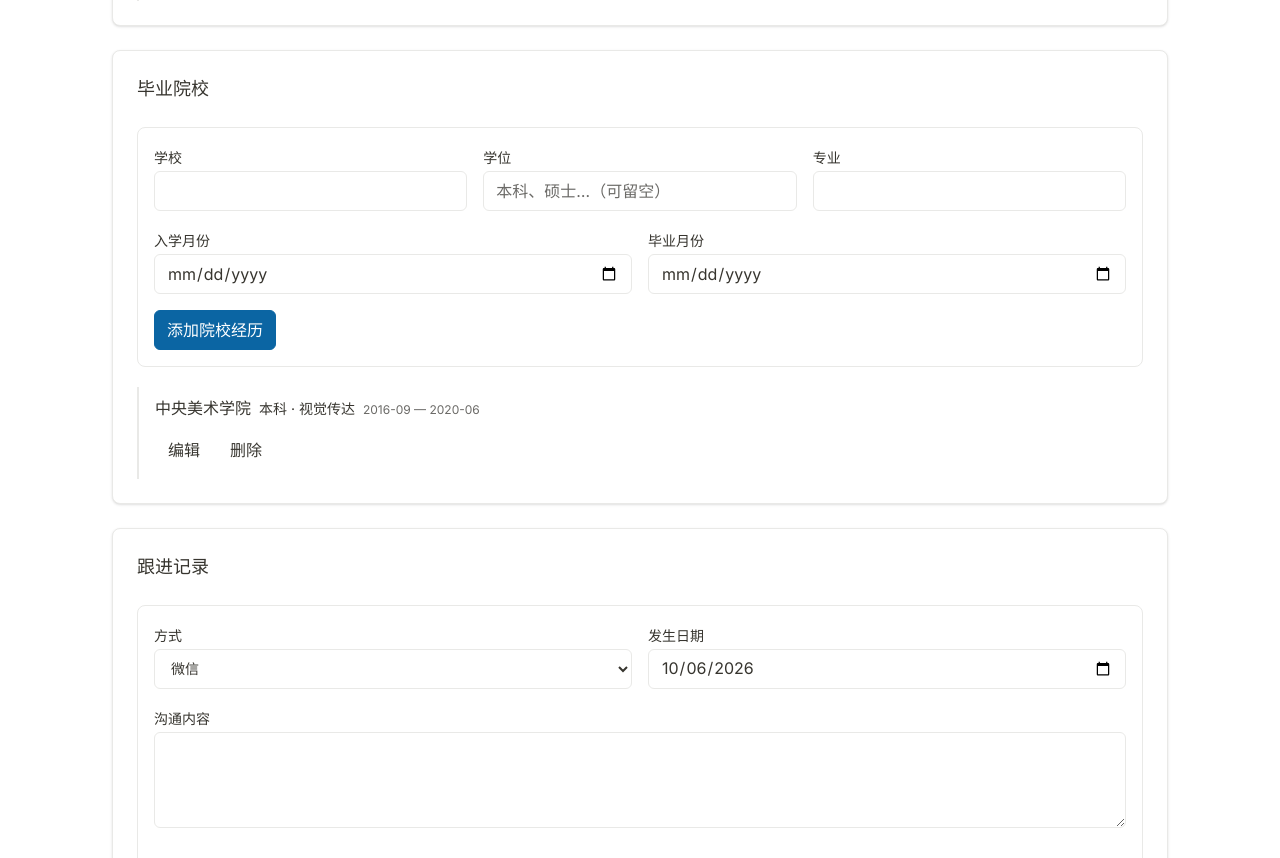
Test case: TalentDetailPage › 删除院校经历前需要确认
The image size is (1280, 858).
(page scrolled)
What coordinates should you click on to do the following:
click the button "删除"
I would click on:
 (246, 451)
Its box is [217,431,275,471].
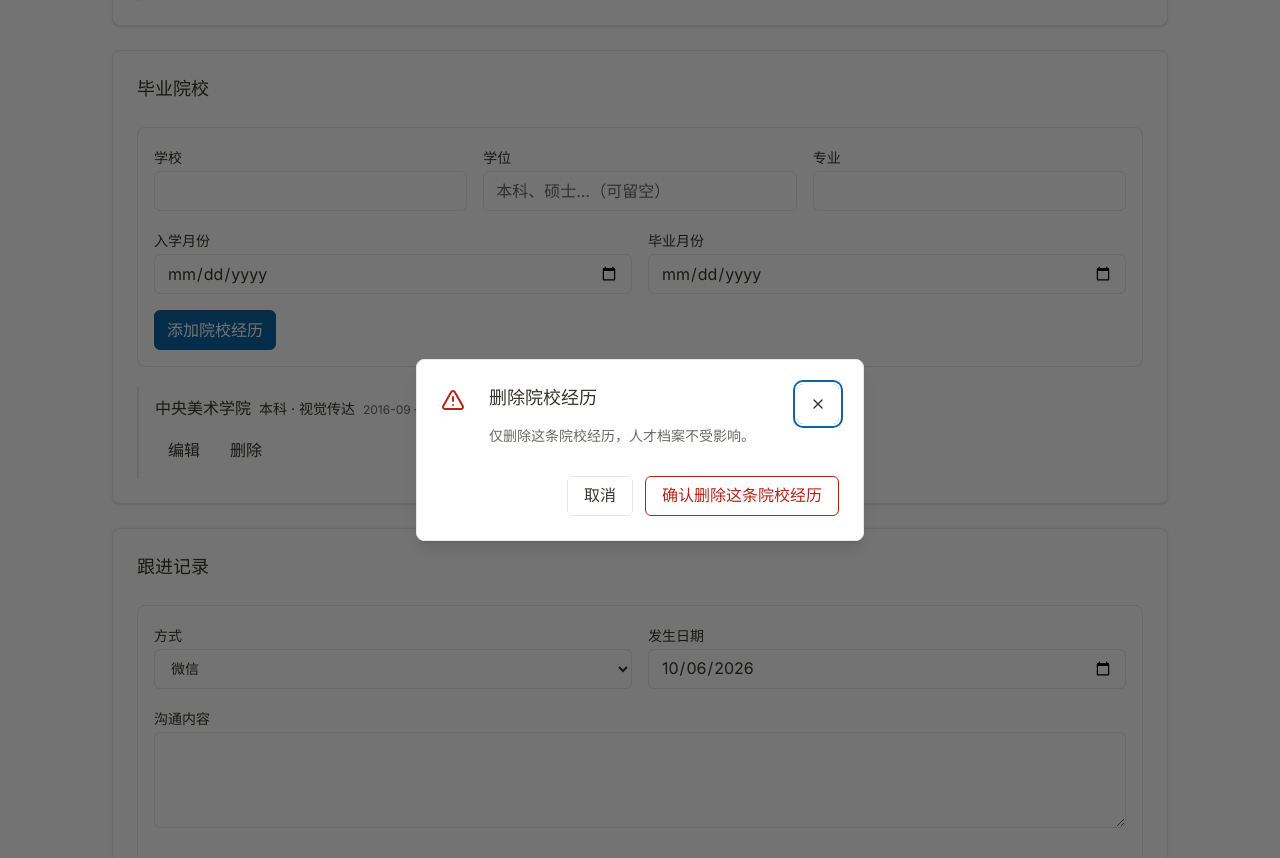
Now the dialog shows "人才档案不受影响", box [489,427,755,444]
What coordinates should you click on to do the following:
click the button "确认删除这条院校经历"
I would click on:
 (742, 496)
Its box is [645,476,839,516].
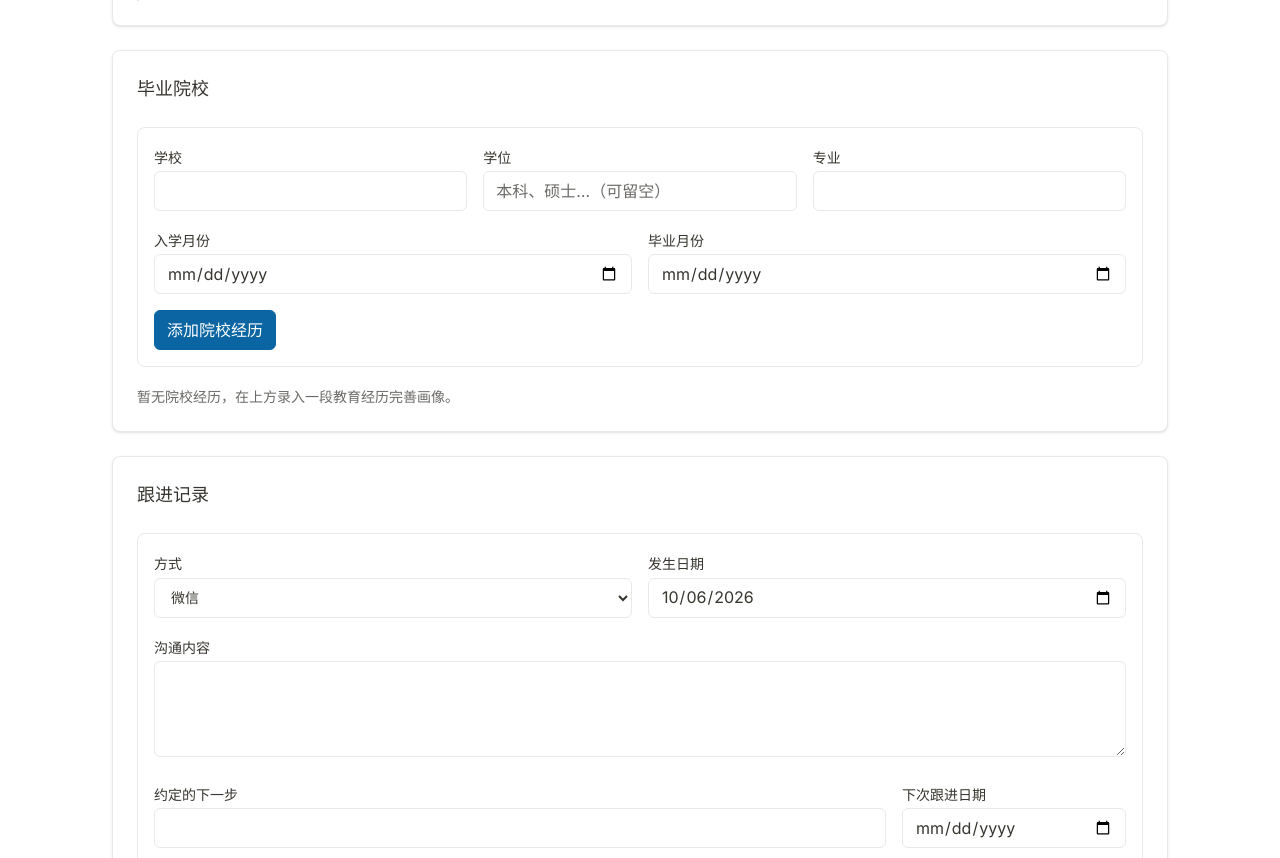
Now the text "暂无院校经历，在上方录入一段教育经历完善画像。" is shown, box [137,388,459,405]
